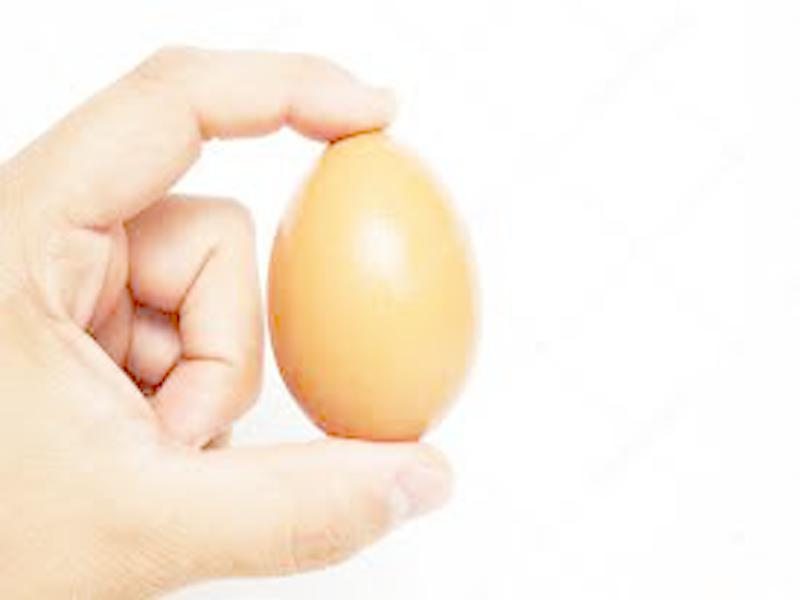Eggs: (265, 125, 483, 443)
